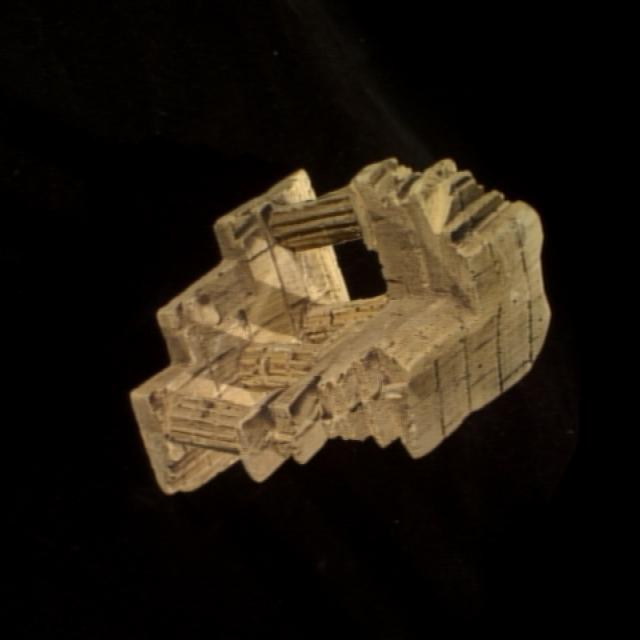Instance-Segmentation: (131, 159, 549, 492)
